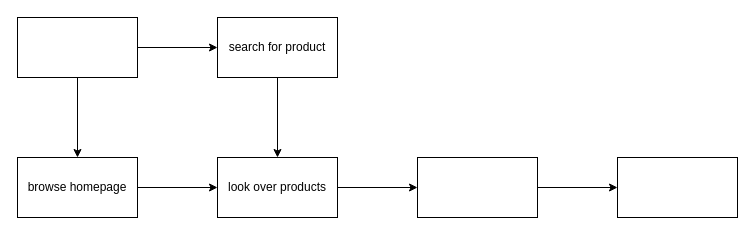
This 755x235 diagram has some shape labels left out. The box of each missing label's shape, as (x1, y1, x2, y2) in pixels:
enter website: (16, 16, 138, 78)
look at specific product: (416, 156, 538, 218)
